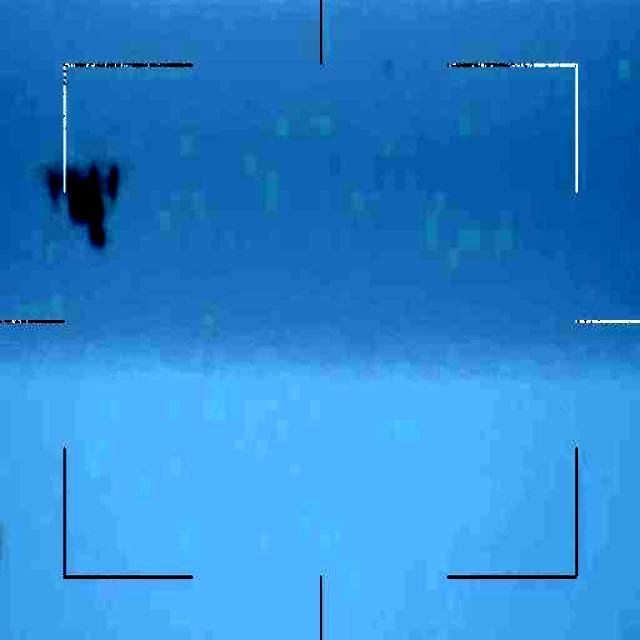bird: (45, 158, 128, 249)
